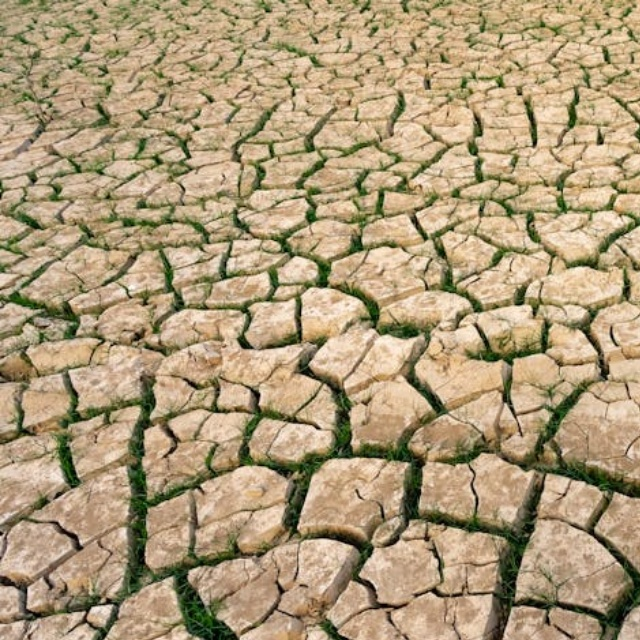网状裂隙: (30, 0, 640, 516), (392, 0, 640, 448)
